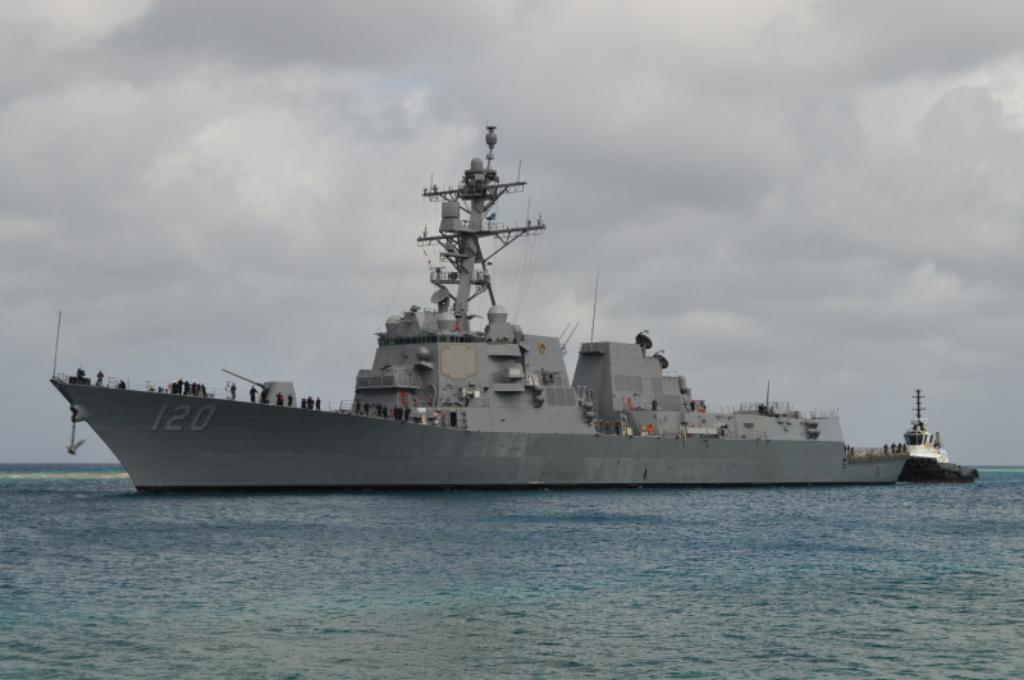Warship: (46, 119, 912, 503)
